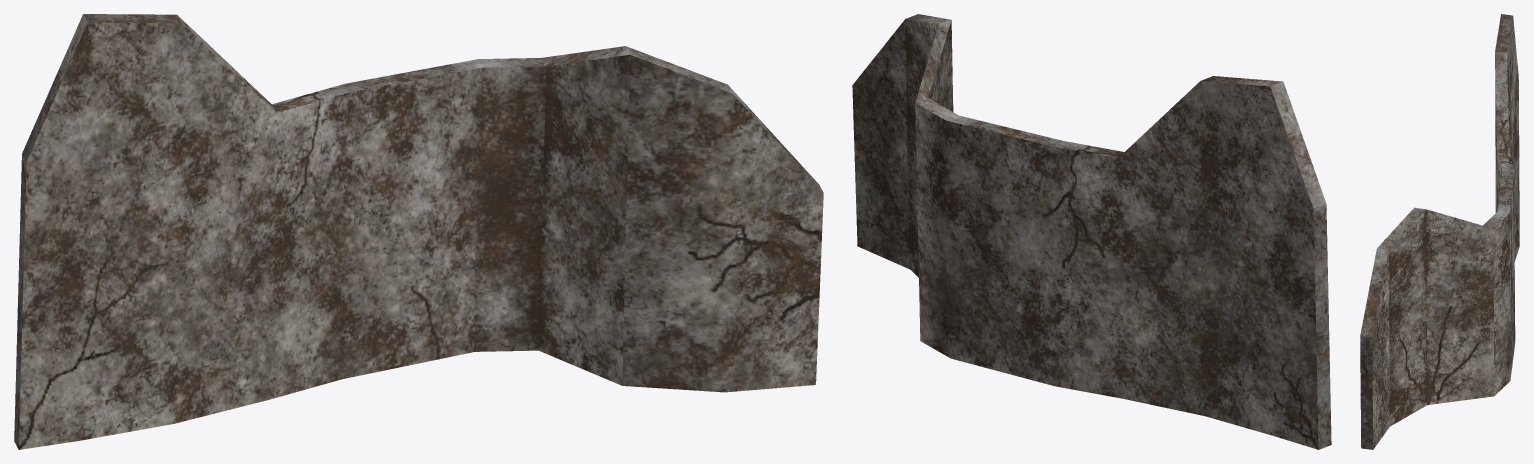
The model's file is RuinaEdificio2.obj.
3 renders of one model, left to right at view 1: azimuth 30°, elevation 25°; view 2: azimuth 150°, elevation 25°; view 3: azimuth 270°, elevation 25°, orthographic. The views are drawn at different scales.
Visible parts, largest first — view 1: Object020; view 2: Object020; view 3: Object020.
Part boxes in pixels (<box>): Object020: <box>14,14,823,449</box>; Object020: <box>852,14,1331,449</box>; Object020: <box>1360,14,1519,449</box>.
Size of the model in its own units: 63.35 by 37.53 by 21.26.
1 material, 1 textured.
